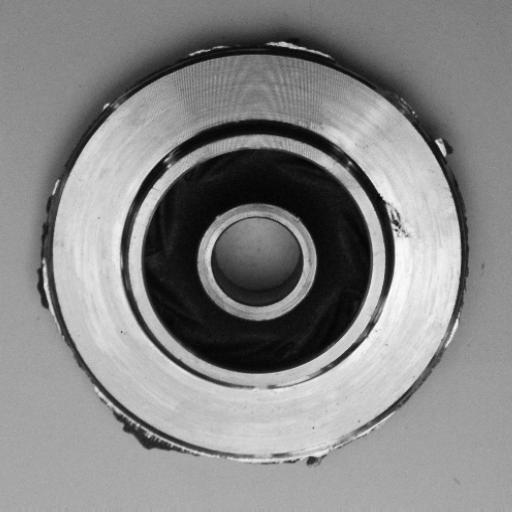casting_with_burr: (38, 34, 475, 471)
crack: (378, 198, 416, 247)
scratch: (244, 371, 327, 400)
